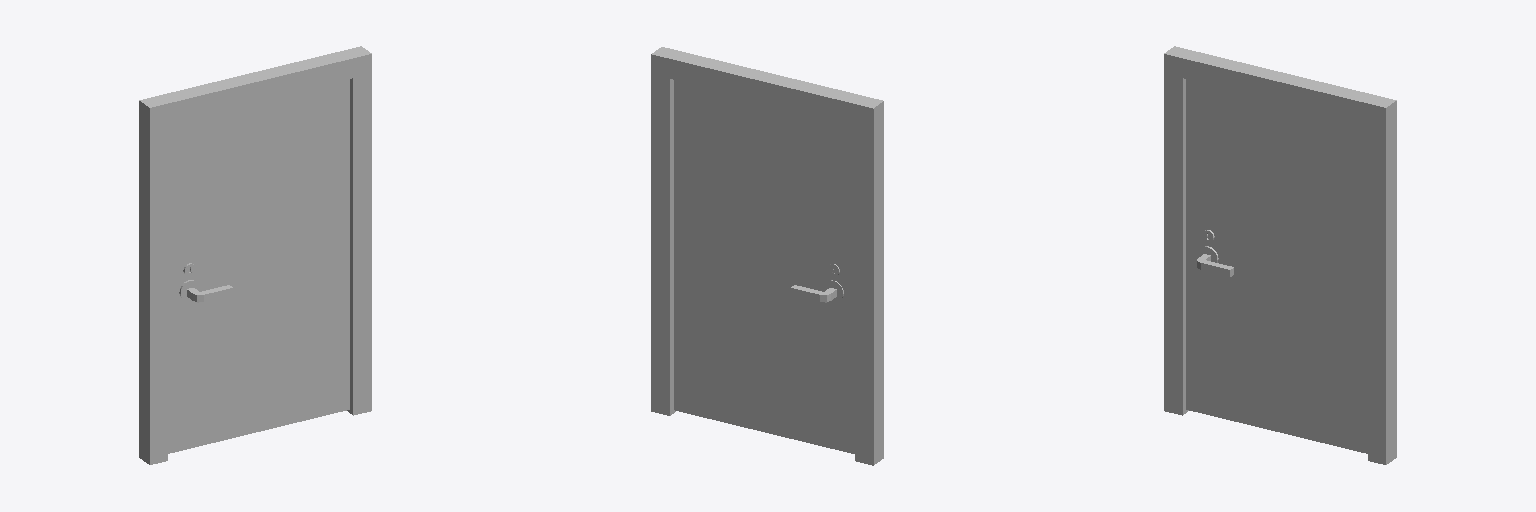
File: Door.obj
3 renders of one model, left to right at view 1: azimuth 30°, elevation 25°; view 2: azimuth 150°, elevation 25°; view 3: azimuth 330°, elevation 25°, orthographic.
Parts seen in each view (by area): view 1: Door, Box058; view 2: Door, Box058; view 3: Door, Box058.
Boxes of the visible parts, <box> form: Door: <box>168,79,349,453</box>; Box058: <box>139,46,371,464</box>; Door: <box>674,80,854,453</box>; Box058: <box>651,47,883,465</box>; Door: <box>1186,79,1367,453</box>; Box058: <box>1164,46,1396,464</box>.
Bounding box in the file's own units: 59.28 × 91.03 × 12.36.